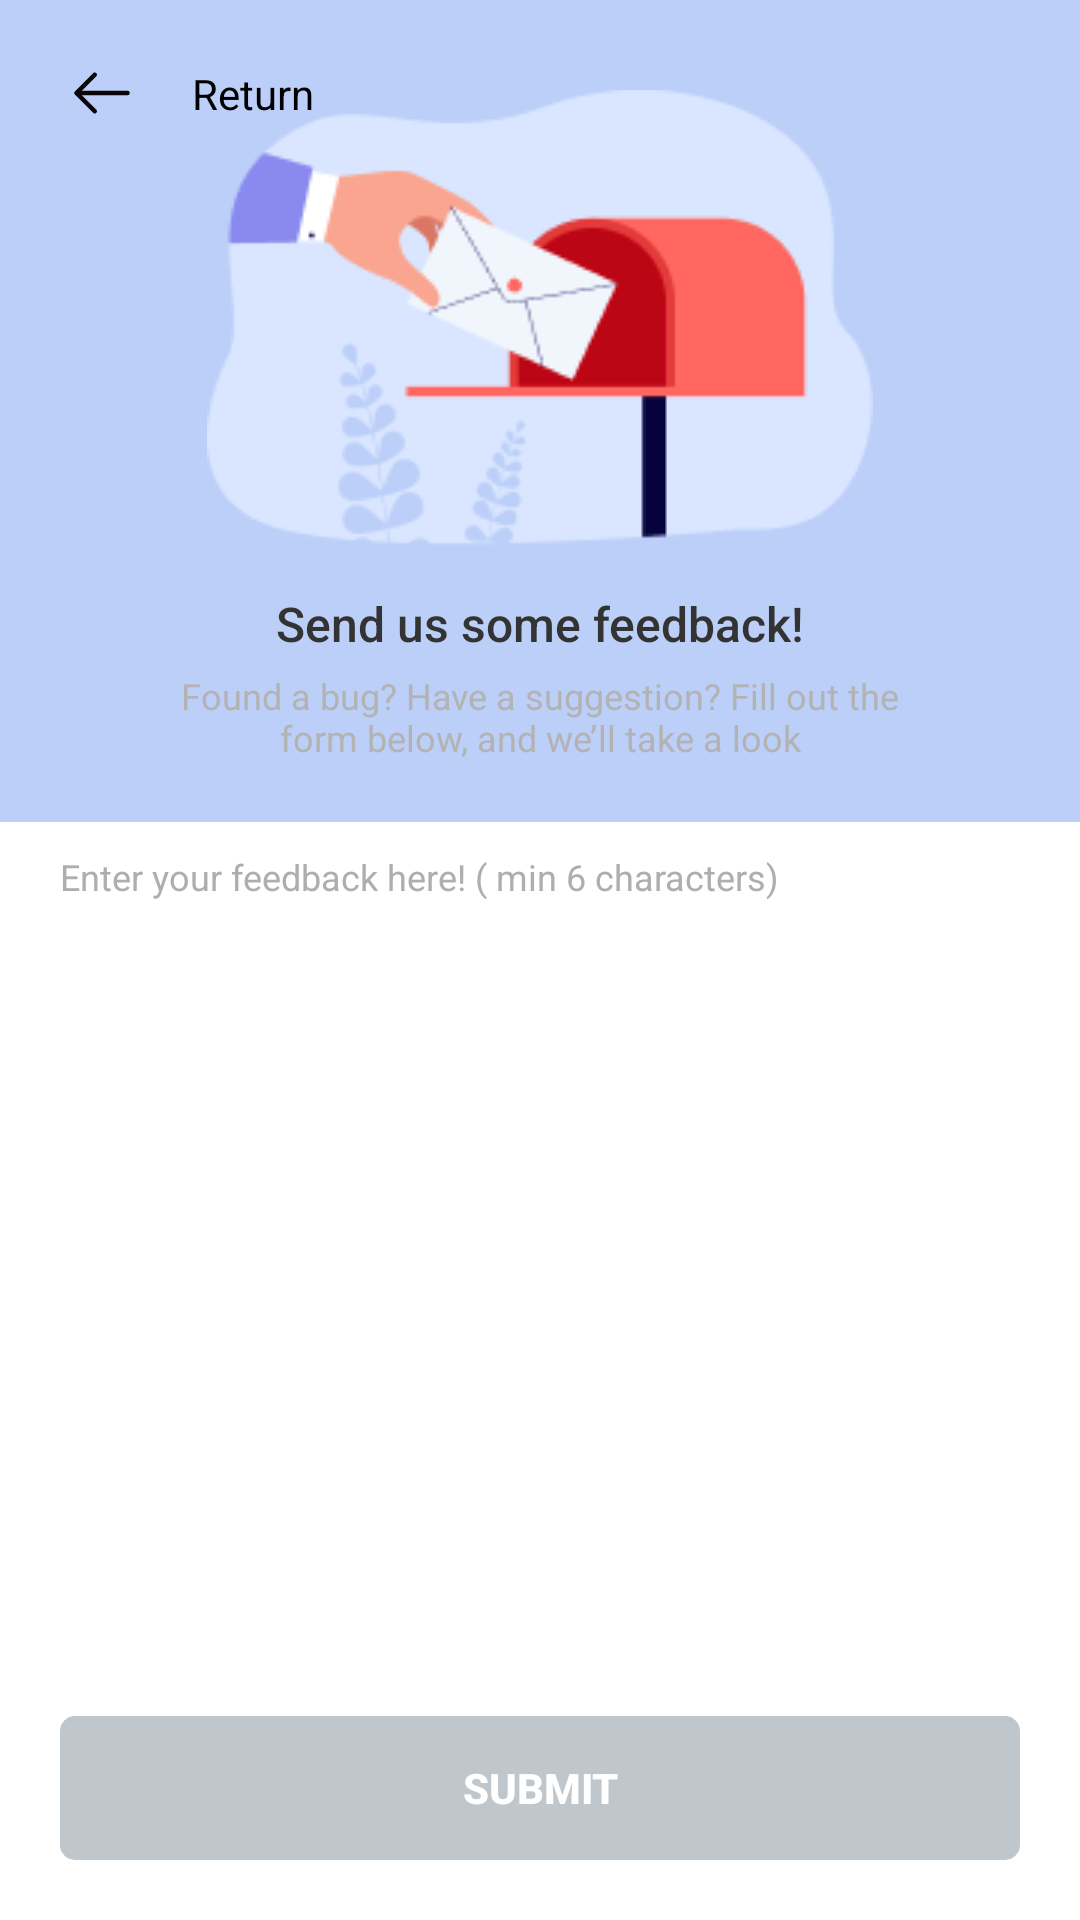

Screen size 1080px×1920px. Icon name, then its box in pixels as rect(x1, y1, x2, y2):
back rate: rect(74, 72, 130, 114)
